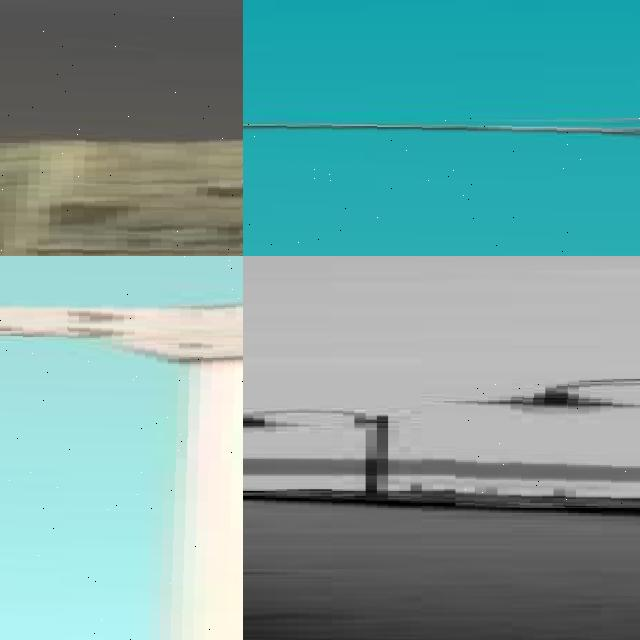street light: (0, 256, 243, 640), (0, 0, 243, 256), (243, 111, 640, 256), (455, 379, 640, 508), (243, 407, 410, 500)
